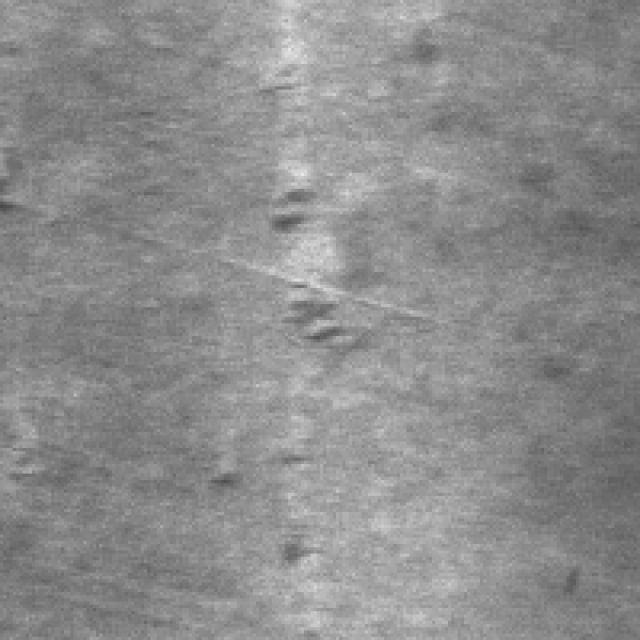rolled-in_scale: (221, 179, 374, 586)
